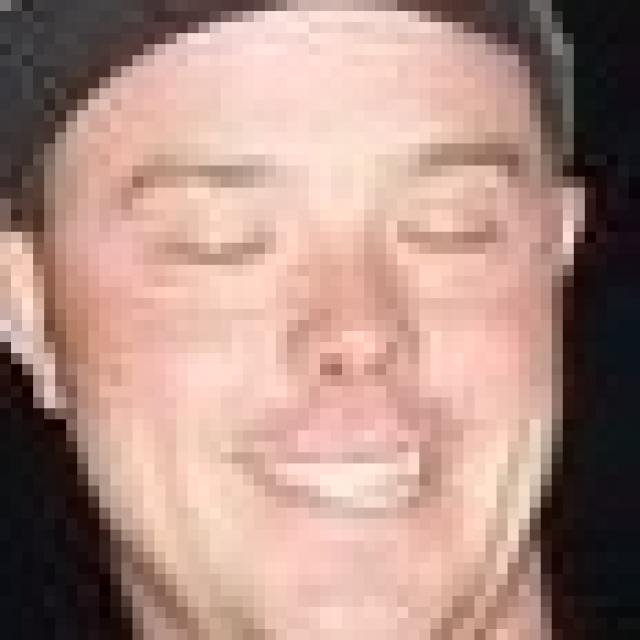Eyeclosed: (155, 218, 270, 276), (394, 206, 496, 260)
